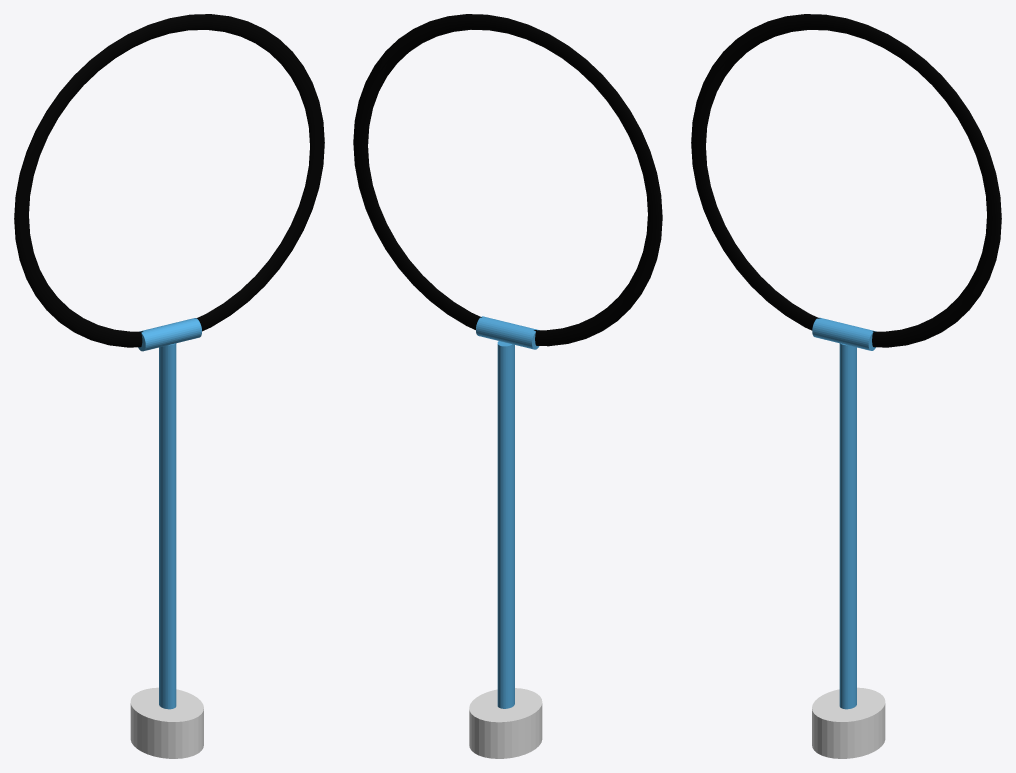
The model's file is Hoop_Unity.fbx.
3 views of the same model, side by side, from view 1: azimuth 30°, elevation 25°; view 2: azimuth 150°, elevation 25°; view 3: azimuth 330°, elevation 25° (orthographic).
Visible parts, largest first — view 1: BezierCircle, Cylinder, Cylinder.001, Cylinder.002; view 2: BezierCircle, Cylinder, Cylinder.001, Cylinder.002; view 3: BezierCircle, Cylinder, Cylinder.001, Cylinder.002.
Part boxes in pixels (x1,y1,x2,y2): BezierCircle: (14,14,324,347); Cylinder: (159,343,176,709); Cylinder.001: (130,687,203,758); Cylinder.002: (138,318,201,351); BezierCircle: (353,14,662,346); Cylinder: (497,341,514,708); Cylinder.001: (469,688,542,758); Cylinder.002: (476,316,539,349); BezierCircle: (691,14,1001,347); Cylinder: (839,343,856,709); Cylinder.001: (812,687,885,758); Cylinder.002: (812,317,876,350).
Bounding box in the file's own units: 0.882 × 1.97 × 0.21.
